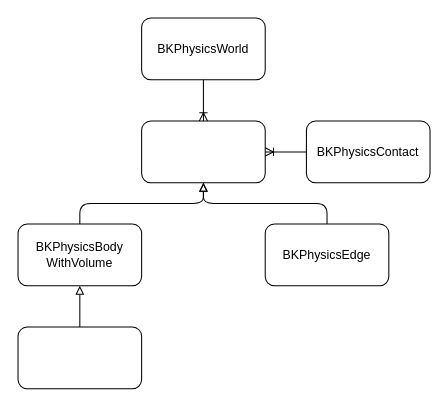
This 448x407 diagram has some shape labels left out. The centre of each missing label's shape, as x and y in pixels:
BKPhysicsBody: the point at 203,151
BKPhysicsCircle: the point at 79,357
